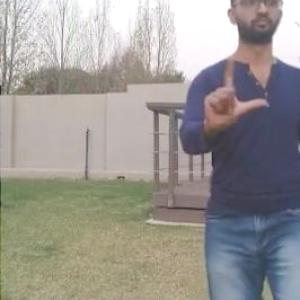land_hand: (193, 54, 265, 140)
